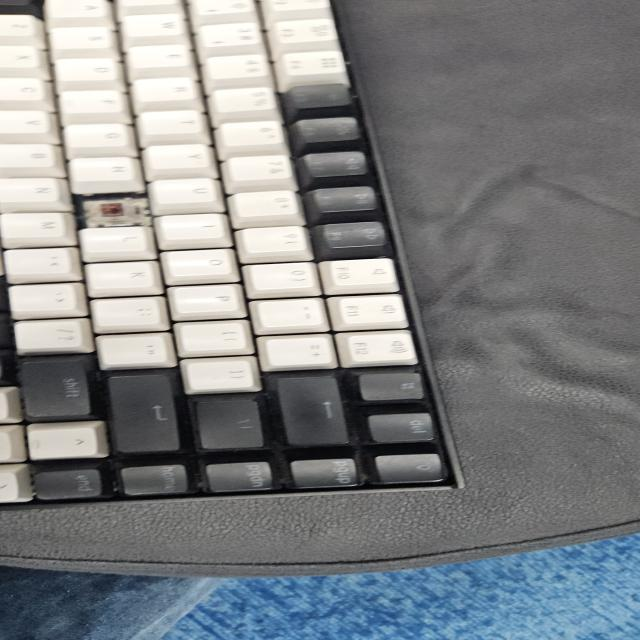C: (88, 197, 136, 224)
